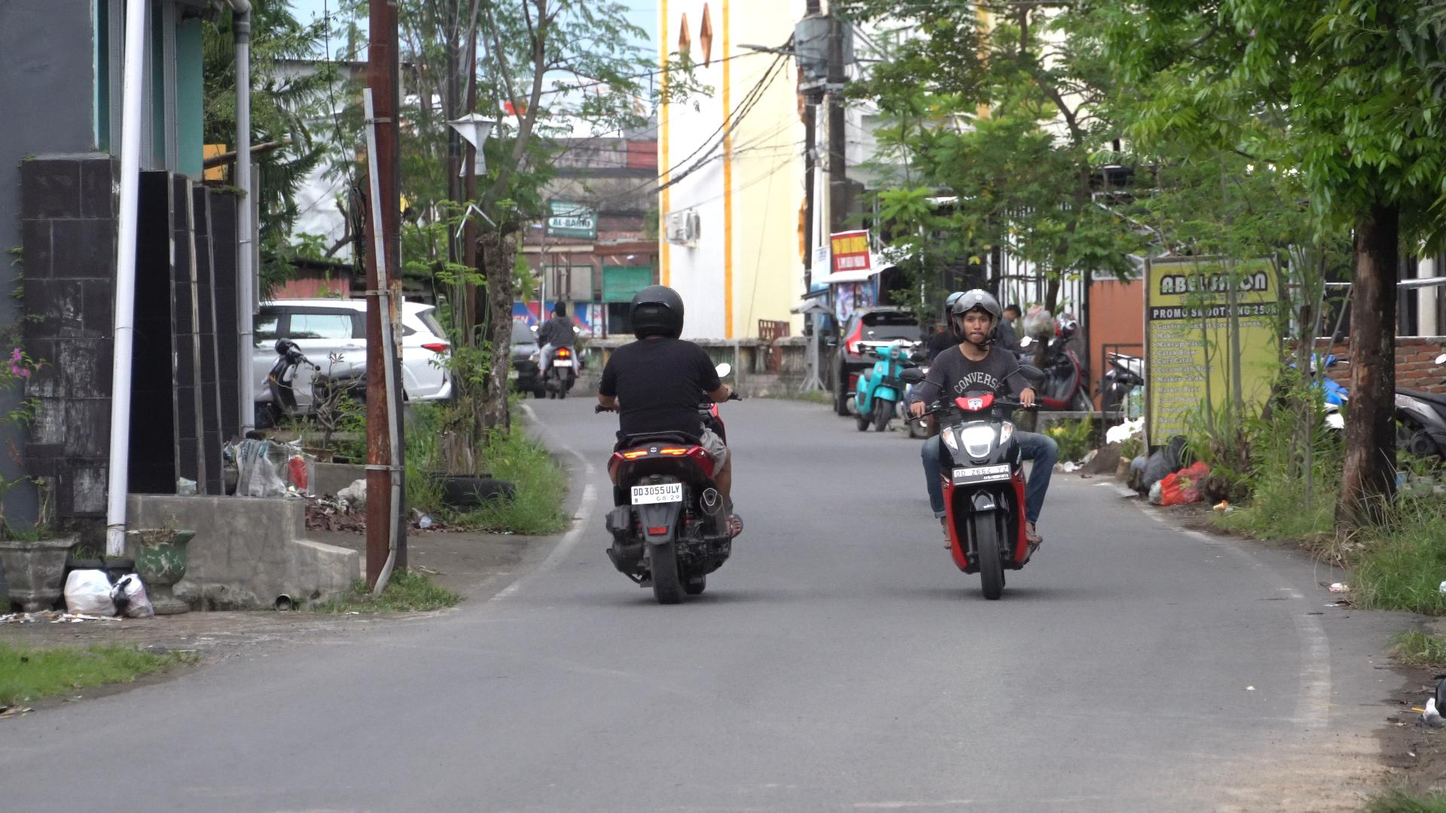number-plate: (949, 462, 1012, 488)
